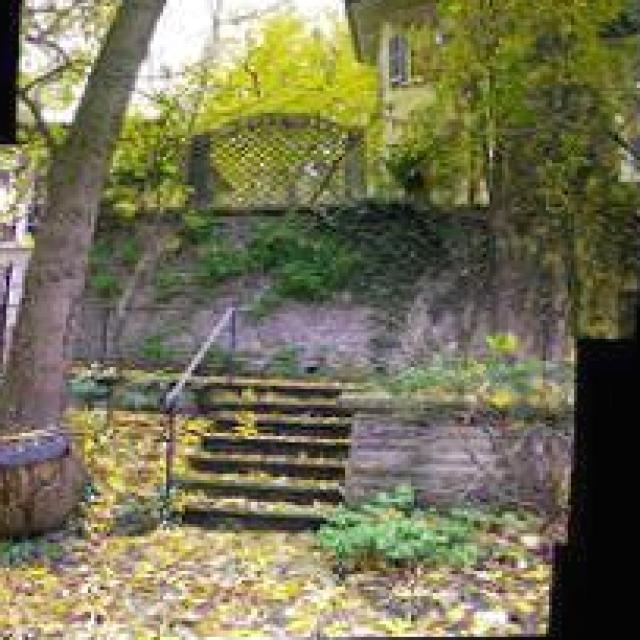upstair: (180, 315, 368, 541)
